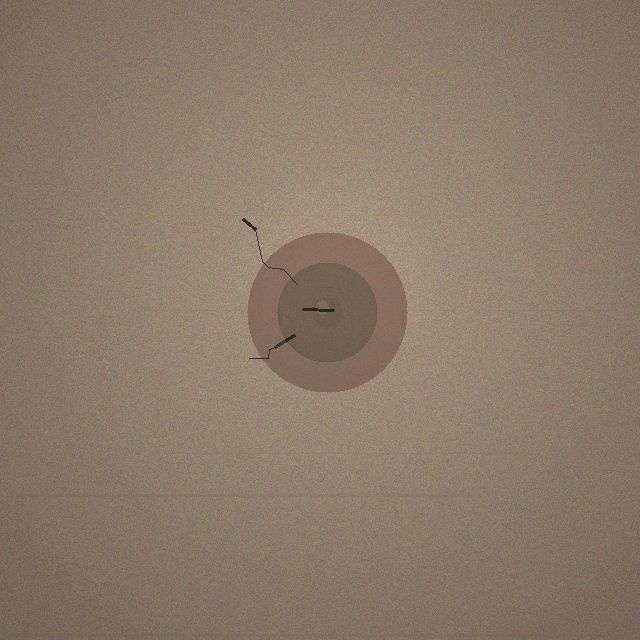crack: (247, 232, 407, 392)
